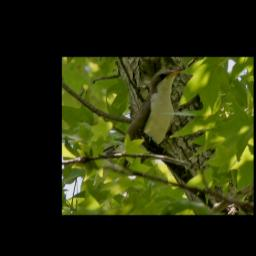Cuckoo: (102, 66, 186, 168)
